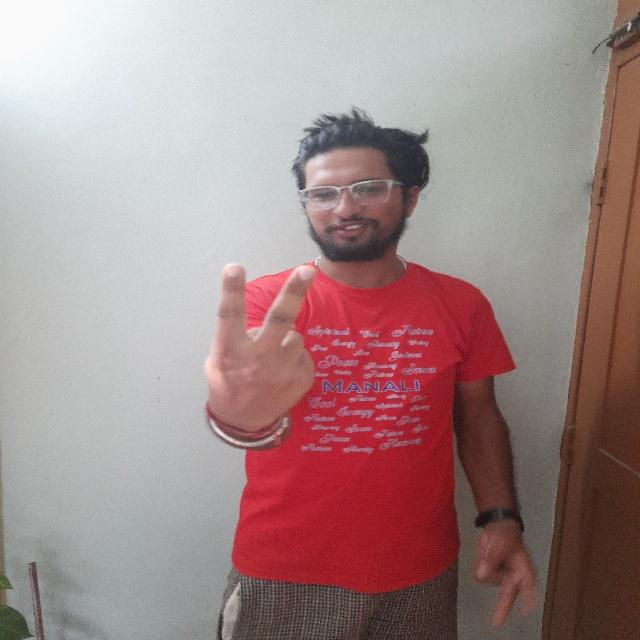Reversed Victory: (200, 244, 329, 444)
